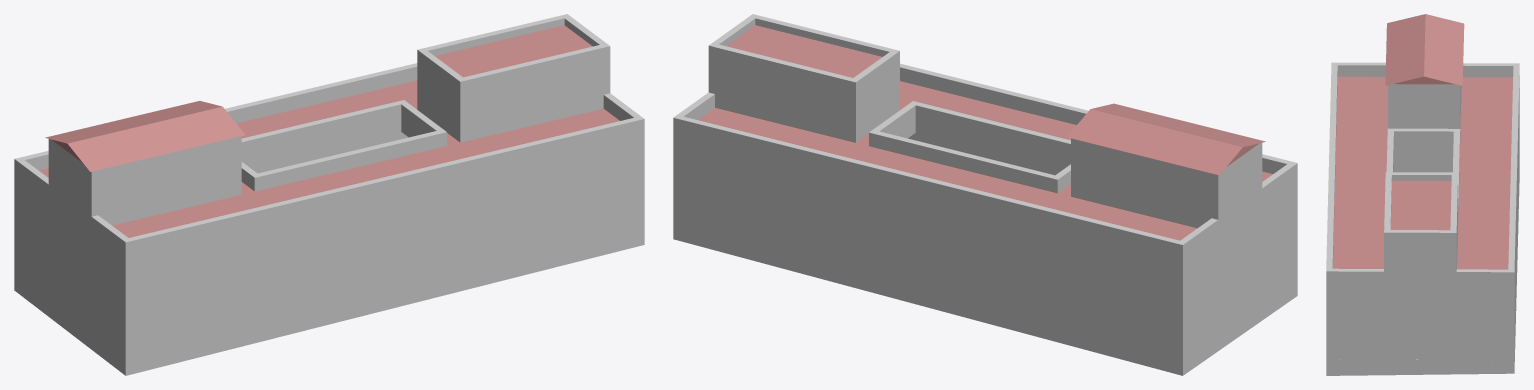
The model's file is LOD_Block_2_58.glb.
3 views of the same model, side by side, from view 1: azimuth 30°, elevation 25°; view 2: azimuth 150°, elevation 25°; view 3: azimuth 270°, elevation 25° (orthographic). The views are drawn at different scales.
Parts seen in each view (by area): view 1: mesh_CityEngineMaterial_862; view 2: mesh_CityEngineMaterial_862; view 3: mesh_CityEngineMaterial_862.
Part boxes in pixels (<box>): mesh_CityEngineMaterial_862: <box>14,14,644,375</box>; mesh_CityEngineMaterial_862: <box>673,14,1297,375</box>; mesh_CityEngineMaterial_862: <box>1326,14,1519,375</box>.
Bounding box in the file's own units: 39.51 × 13.9 × 15.35.
